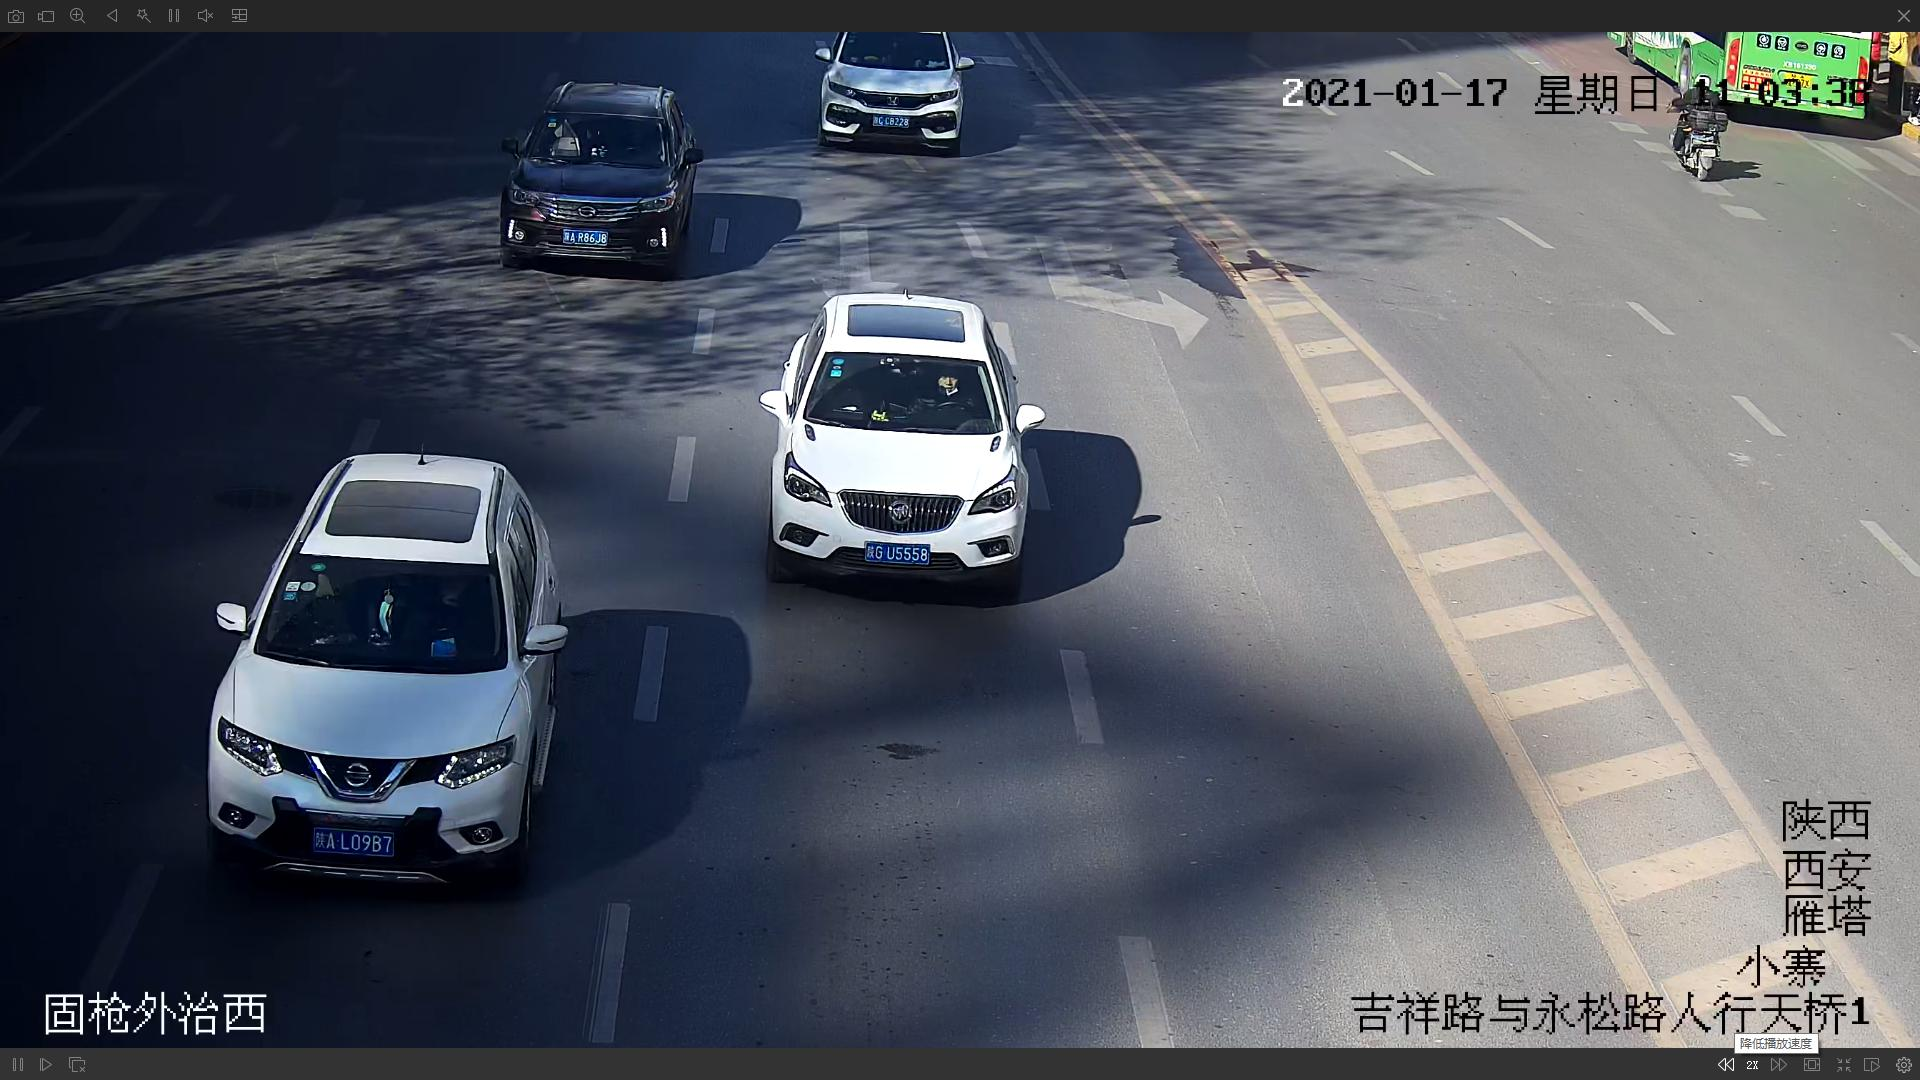black: (500, 80, 705, 277)
white: (204, 448, 574, 891), (753, 298, 1040, 595)
